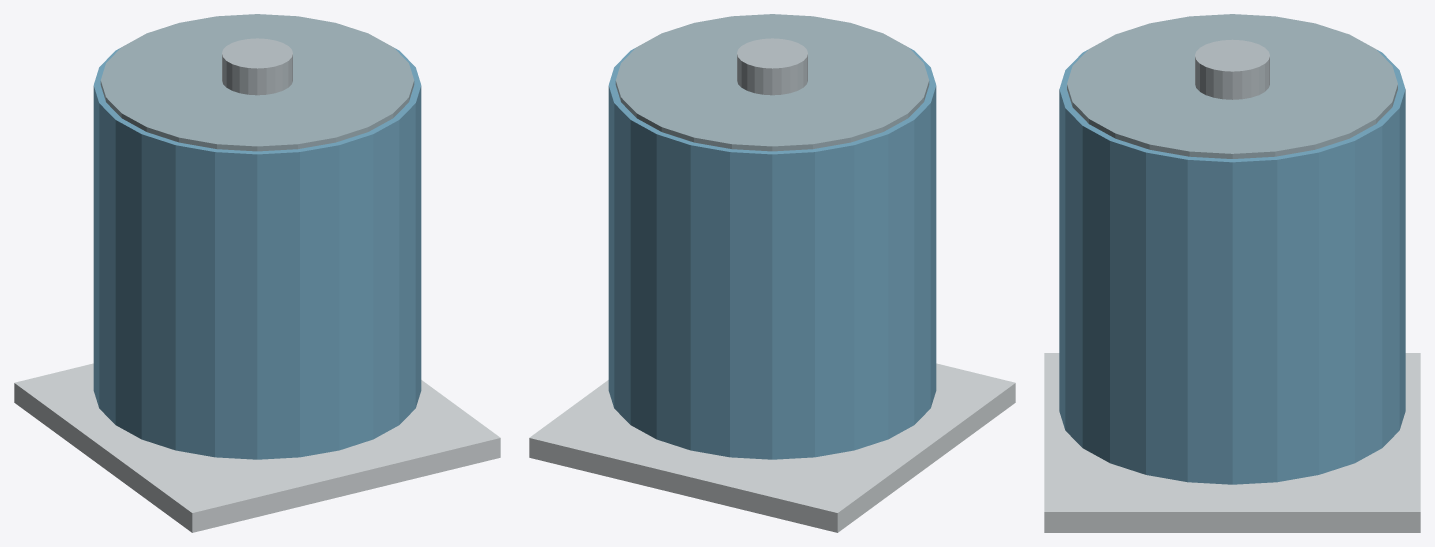
File: water.glb
3 views of the same model, side by side, from view 1: azimuth 30°, elevation 25°; view 2: azimuth 150°, elevation 25°; view 3: azimuth 270°, elevation 25° (orthographic). The views are drawn at different scales.
Parts seen in each view (by area): view 1: water; view 2: water; view 3: water.
Part boxes in pixels (<box>): water: <box>14,14,500,532</box>; water: <box>529,14,1015,532</box>; water: <box>1044,14,1420,532</box>.
Bounding box in the file's own units: 6 × 7 × 6.
